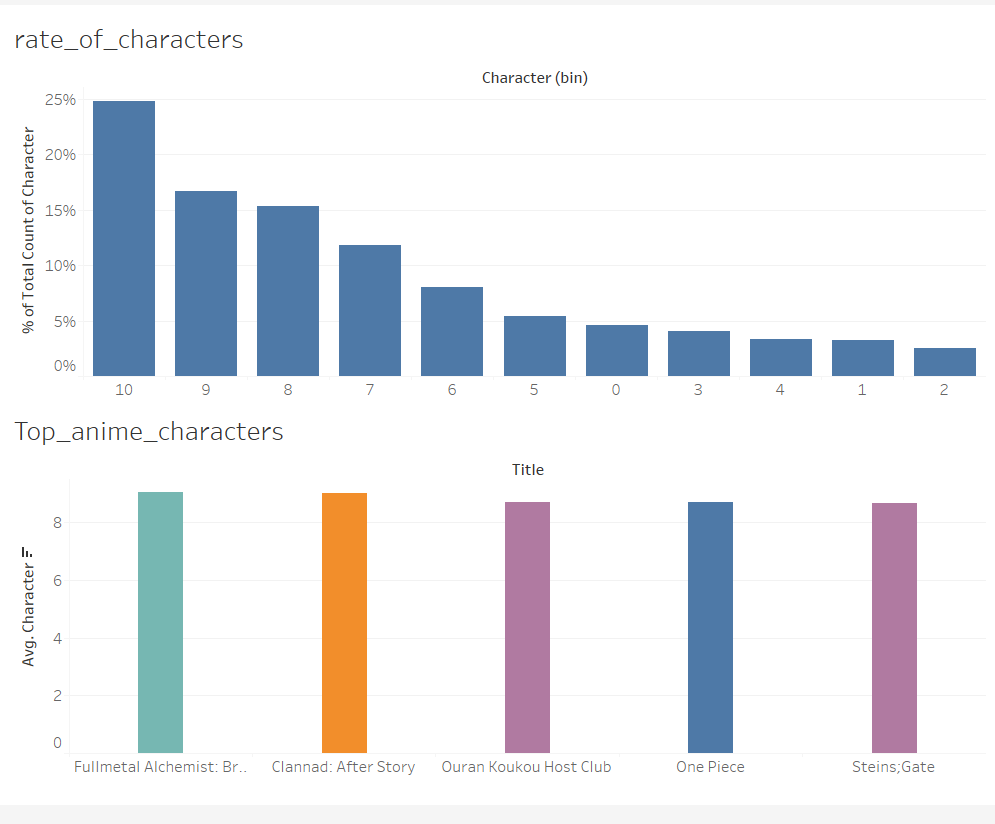

Layout of this report page (visuals, bound fields, positions):
{"tool":"tableau","page":{"name":"Character_dashboard","canvas":[1000,800],"ordinal":1},"visuals":[{"type":"worksheet","title":"rate_of_characters","mark":"Automatic","rows":["Character"],"cols":["Character (bin)"],"box":[8,8,984,392]},{"type":"worksheet","title":"Top_anime_characters","mark":"Automatic","rows":["Character"],"cols":["title"],"box":[8,400,984,392]}]}

Visuals, with their boxes on the page's 1000x800 design canvas (x1, y1, x2, y2). These are canvas units, not pixel positions in the 995x824 screenshot, which may show the page scaled, cropped or inside an application window:
"rate_of_characters" worksheet: left=8, top=8, right=992, bottom=400
"Top_anime_characters" worksheet: left=8, top=400, right=992, bottom=792
